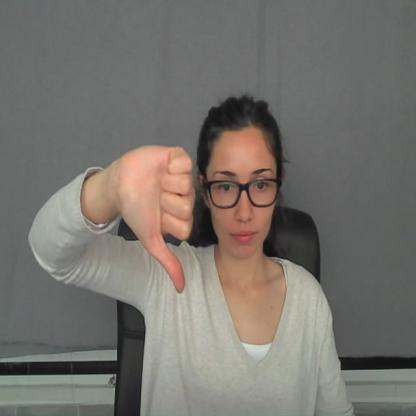thumbs-down: (121, 144, 204, 296)
